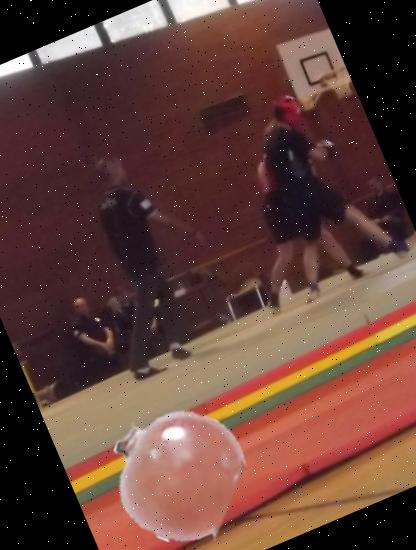Redcurrant: (88, 387, 261, 550)
